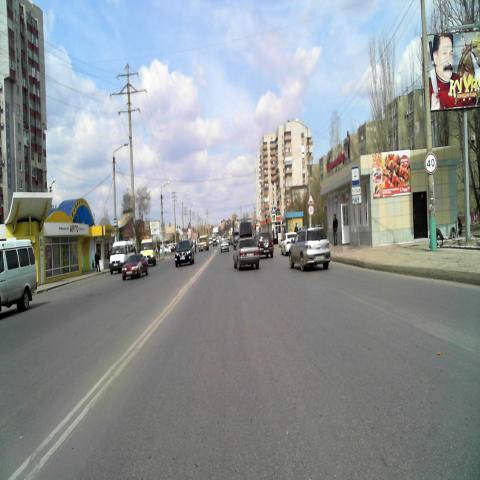7_5: (351, 166, 360, 186)
